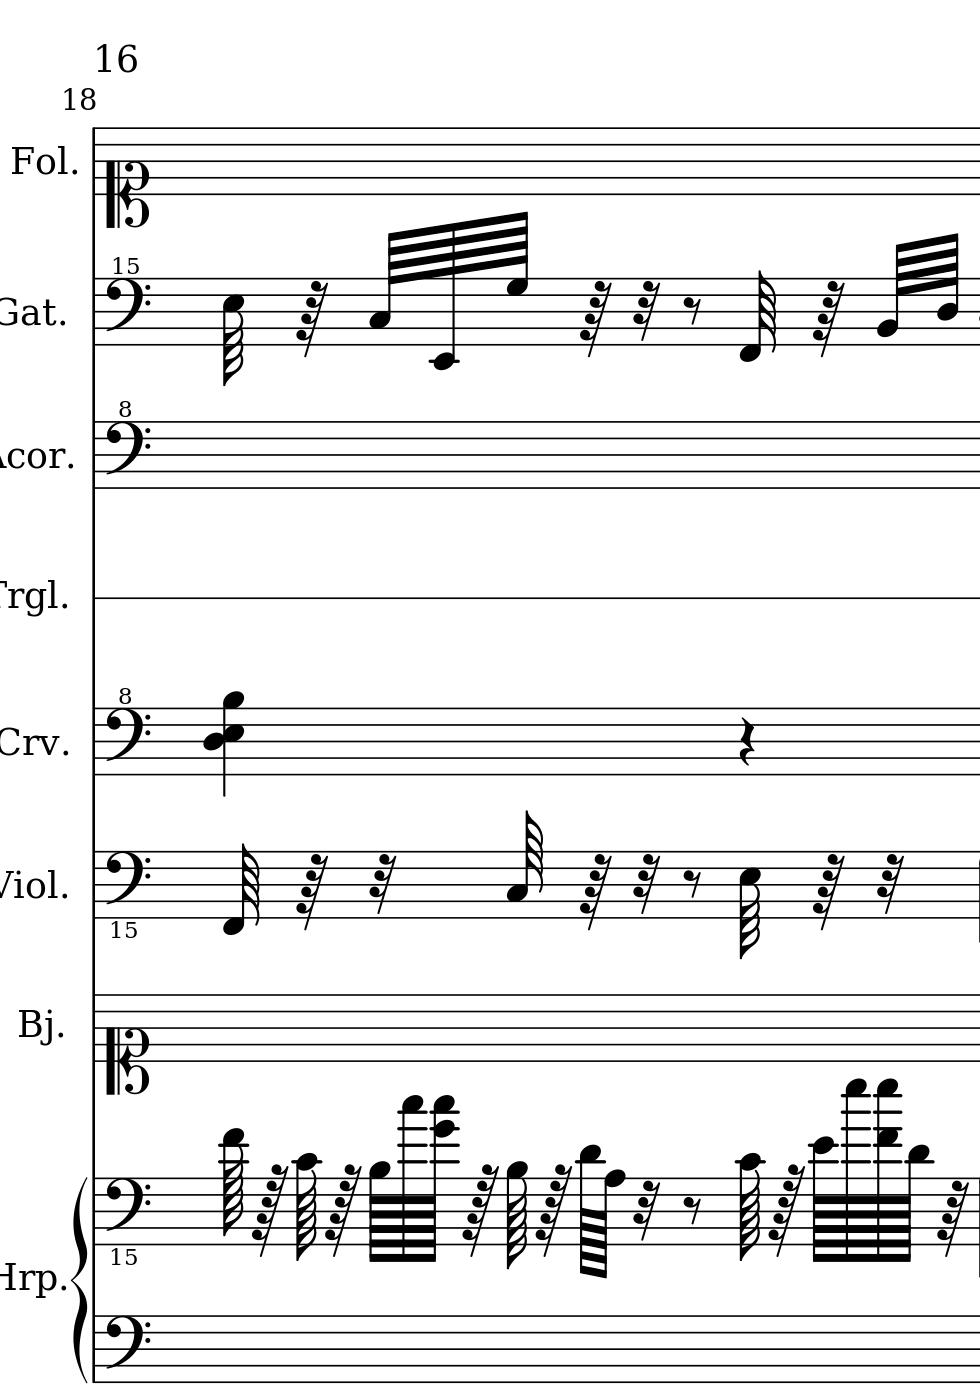1: (95, 42, 111, 74), (62, 85, 76, 113)
128_10: (734, 1152, 764, 1265), (293, 1152, 319, 1265)
128_11: (899, 1141, 929, 1263), (575, 1143, 597, 1279)
128_12: (809, 1136, 840, 1263)
128_13: (218, 1127, 247, 1246)
128_17: (397, 1094, 427, 1264)
128_19: (840, 1076, 872, 1263)
128_8: (599, 1169, 625, 1280)
128_9: (504, 1160, 529, 1273), (367, 1161, 392, 1264)
6: (116, 41, 140, 74)
64_-1: (737, 268, 778, 364), (221, 841, 260, 937)
64_-2: (430, 221, 459, 372)
64_2: (875, 241, 907, 348)
64_3: (504, 811, 545, 922), (367, 230, 400, 349)
64_4: (935, 233, 960, 346)
64_5: (735, 850, 763, 957), (220, 276, 246, 385)
64_7: (504, 210, 531, 350)
8: (78, 85, 97, 113)
Brace: (71, 1171, 91, 1386)
DHigh_Fclef: (101, 252, 150, 348)
DLower_Fclef: (102, 850, 154, 944), (102, 1175, 153, 1267)
Fclef: (102, 1313, 152, 1383)
High_Fclef: (100, 398, 153, 491), (101, 683, 152, 779)
Rests128: (323, 1162, 361, 1255), (460, 1162, 497, 1255), (533, 1163, 571, 1256), (768, 1163, 805, 1256), (252, 1164, 288, 1257)
Rests32: (367, 852, 396, 917), (875, 852, 904, 917), (631, 853, 660, 917), (631, 280, 660, 344), (631, 1180, 660, 1244)
Rests4: (736, 716, 757, 768)
Rests64: (577, 853, 612, 933), (811, 279, 846, 358), (294, 852, 328, 933), (294, 279, 328, 359), (578, 279, 612, 359), (937, 1178, 969, 1260), (812, 853, 845, 932)
Rests8: (681, 1195, 703, 1229), (681, 295, 703, 327), (681, 869, 702, 901)
Single_barline: (85, 995, 103, 1062), (86, 129, 102, 196), (86, 279, 102, 345), (86, 422, 101, 489), (86, 708, 101, 775), (87, 852, 101, 918), (88, 1178, 102, 1245), (89, 1315, 102, 1382)
Soprano_Cclef: (104, 990, 151, 1096), (104, 123, 150, 230)
